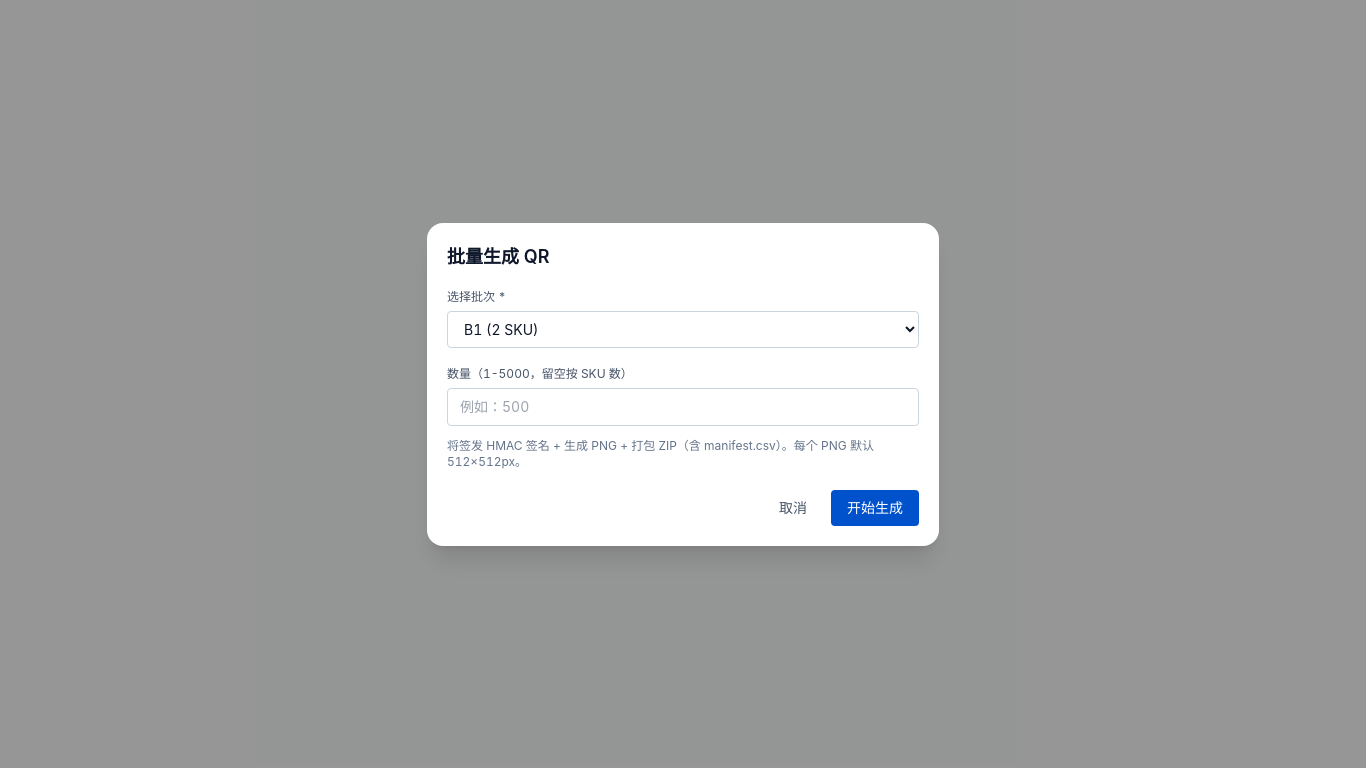
Scenario: QrBatchDialog › quantity 超 5000 → 错误提示,不调 API
The width and height of the screenshot is (1366, 768).
Select "B1 (2 SKU)" in the dropdown labelled "选择批次 *" at {"x": 683, "y": 329}, box x1=447 y1=310 x2=919 y2=348
Type "6000" into the number field labelled "数量（1-5000，留空按 SKU 数）" at {"x": 683, "y": 406}, box x1=447 y1=388 x2=919 y2=426
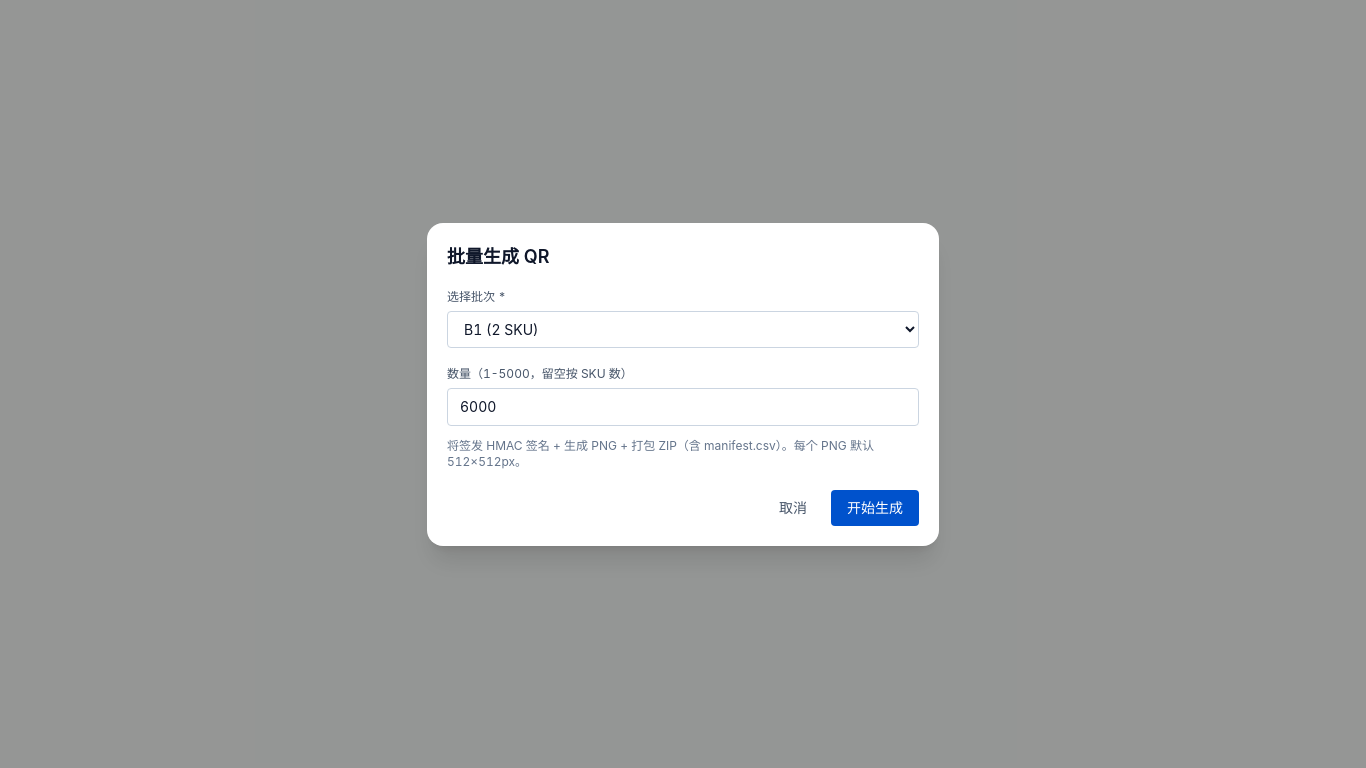
Submit the form, box x1=447 y1=282 x2=919 y2=526
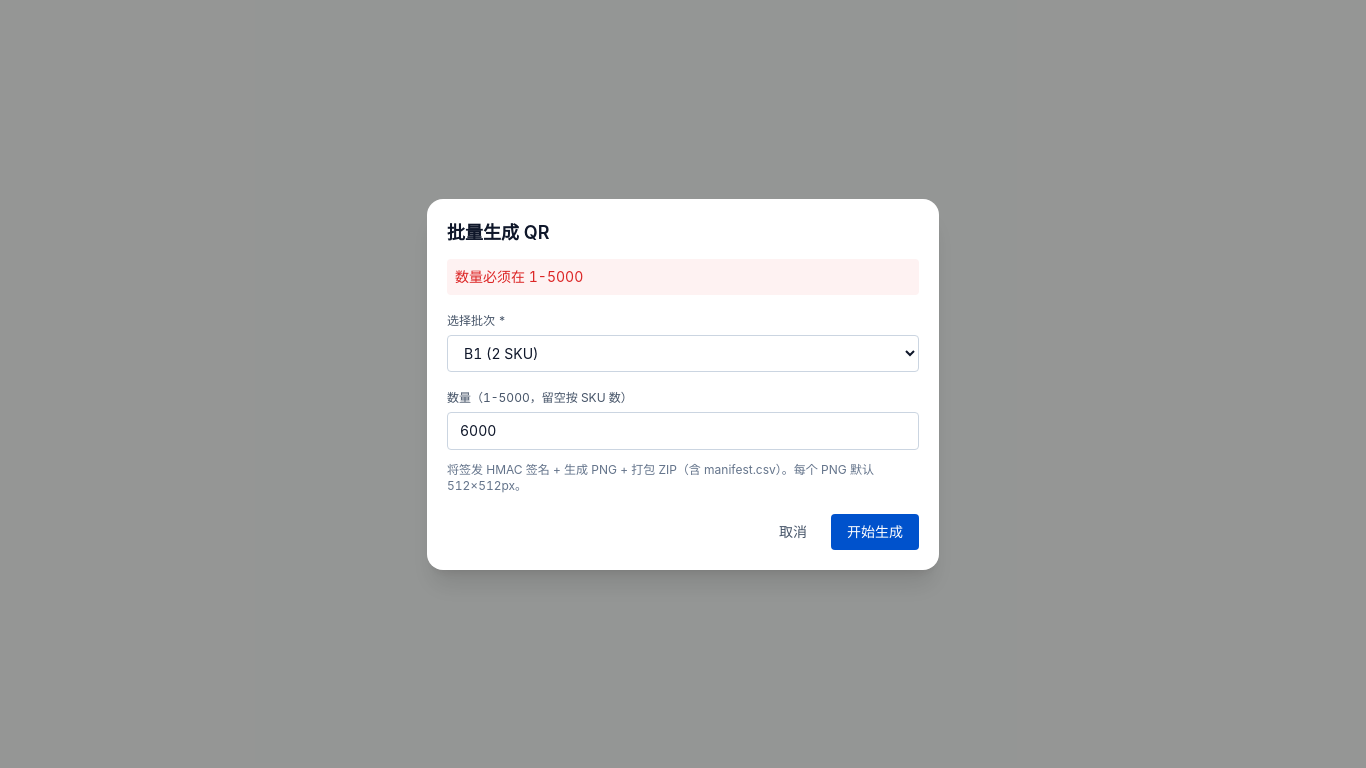
Expected: the text "数量必须在 1-5000" is shown, x1=447 y1=258 x2=919 y2=294
